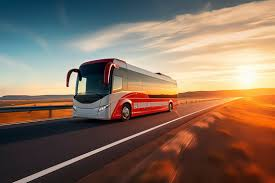bus: (65, 56, 178, 122)
